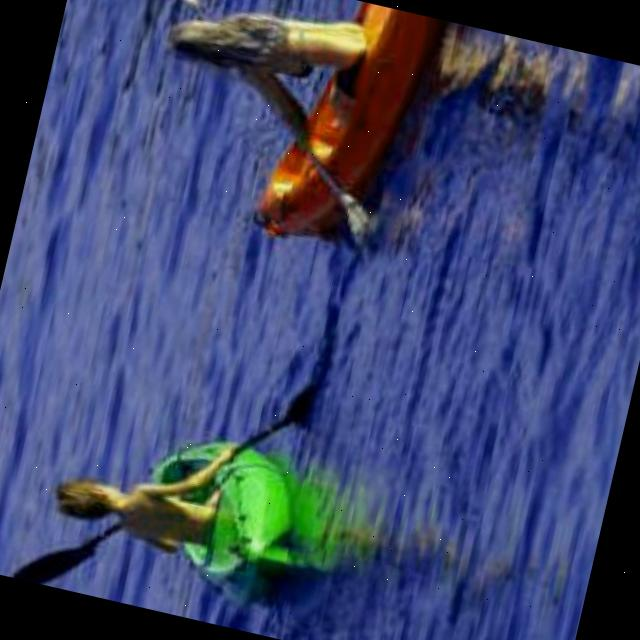kayak: (256, 2, 440, 234), (134, 434, 292, 600)
